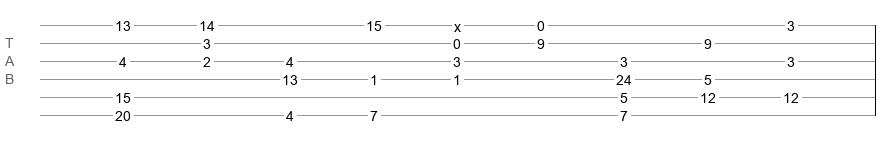0: (453, 36, 461, 46), (537, 18, 545, 28)
1: (370, 72, 378, 82), (453, 72, 461, 82)
12: (700, 90, 716, 100), (783, 90, 799, 100)
13: (115, 18, 131, 28), (282, 72, 298, 82)
14: (199, 18, 215, 28)
15: (115, 90, 131, 100), (366, 18, 382, 28)
2: (203, 54, 211, 64)
20: (115, 108, 131, 118)
24: (616, 72, 632, 82)
3: (203, 36, 211, 46), (453, 54, 461, 64), (620, 54, 628, 64), (787, 54, 795, 64), (787, 18, 795, 28)
4: (119, 54, 127, 64), (286, 108, 294, 118), (286, 54, 294, 64)
5: (620, 90, 628, 100), (704, 72, 712, 82)
7: (370, 108, 378, 118), (620, 108, 628, 118)
9: (537, 36, 545, 46), (704, 36, 712, 46)
x: (454, 19, 461, 27)
